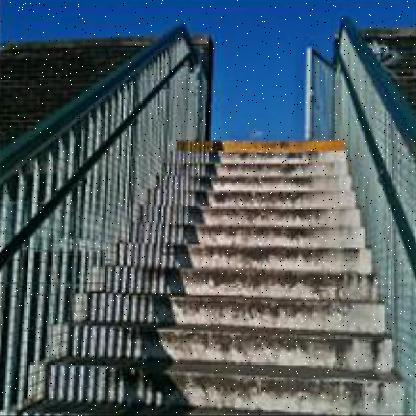stair_up: (55, 231, 409, 408)
